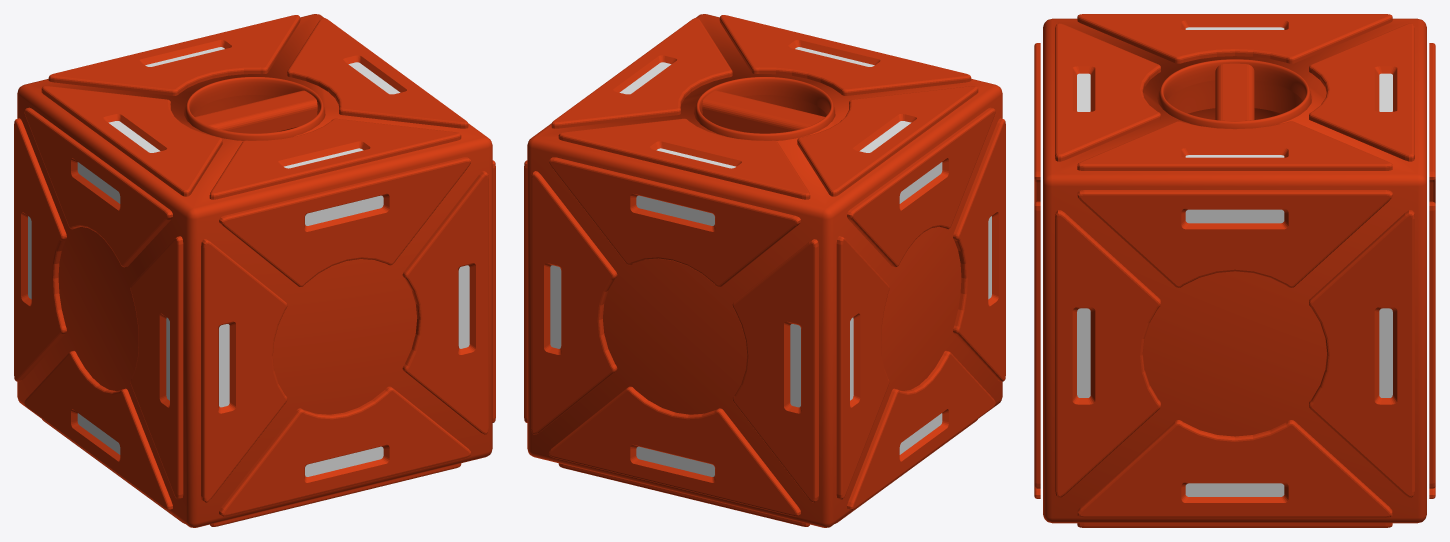
Rendered from sci+fi+crate.fbx.
The picture shows the model from 3 angles, left to right: view 1: azimuth 30°, elevation 25°; view 2: azimuth 150°, elevation 25°; view 3: azimuth 270°, elevation 25°; orthographic projection. The views are drawn at different scales.
Visible parts, largest first — view 1: Cube, Plane, Plane.003, Plane.005, Circle, Plane.006, Plane.004, Plane.002; view 2: Cube, Plane.001, Plane.003, Plane.005, Circle, Plane.006, Plane.004, Plane.002; view 3: Plane.002, Cube, Plane.005, Circle, Plane, Plane.001, Plane.006, Plane.004.
Part boxes in pixels (box(x1,y1,x2,y2)): Cube: box(17, 14, 492, 527); Plane: box(201, 157, 488, 516); Plane.003: box(14, 107, 183, 510); Plane.005: box(41, 15, 468, 199); Circle: box(184, 77, 325, 140); Plane.006: box(195, 90, 317, 133); Plane.004: box(42, 419, 461, 526); Plane.002: box(492, 160, 495, 422); Cube: box(527, 14, 1002, 527); Plane.001: box(531, 157, 818, 516); Plane.003: box(836, 107, 1005, 510); Plane.005: box(551, 15, 978, 199); Circle: box(694, 77, 835, 140); Plane.006: box(702, 90, 824, 133); Plane.004: box(558, 419, 977, 526); Plane.002: box(524, 160, 527, 422); Plane.002: box(1055, 190, 1414, 517); Cube: box(1043, 18, 1426, 523); Plane.005: box(1055, 14, 1414, 170); Circle: box(1158, 59, 1311, 128); Plane: box(1034, 43, 1040, 498); Plane.001: box(1429, 43, 1435, 498); Plane.006: box(1215, 63, 1254, 120); Plane.004: box(1077, 523, 1392, 527).
Size of the model in its own units: 209 by 209 by 209.
